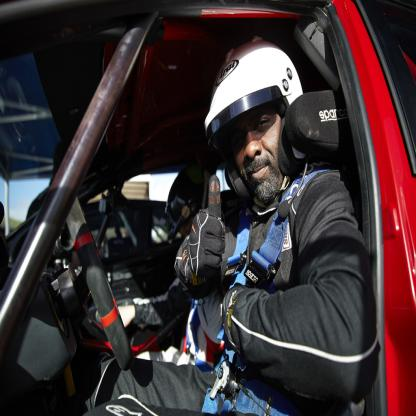Helmet: (204, 42, 308, 206)
